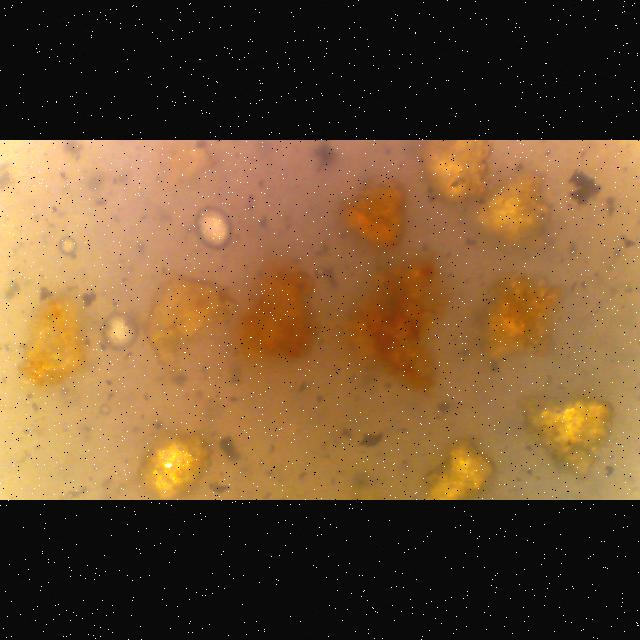Fragment: (341, 242, 462, 396), (140, 266, 242, 384), (228, 259, 326, 365), (517, 385, 625, 481), (470, 267, 572, 365), (470, 163, 560, 257), (15, 288, 97, 388), (328, 167, 418, 257), (398, 434, 512, 501), (133, 420, 221, 500), (414, 140, 496, 210)
microbeads: (185, 203, 239, 249), (97, 307, 141, 353), (54, 232, 80, 260)
